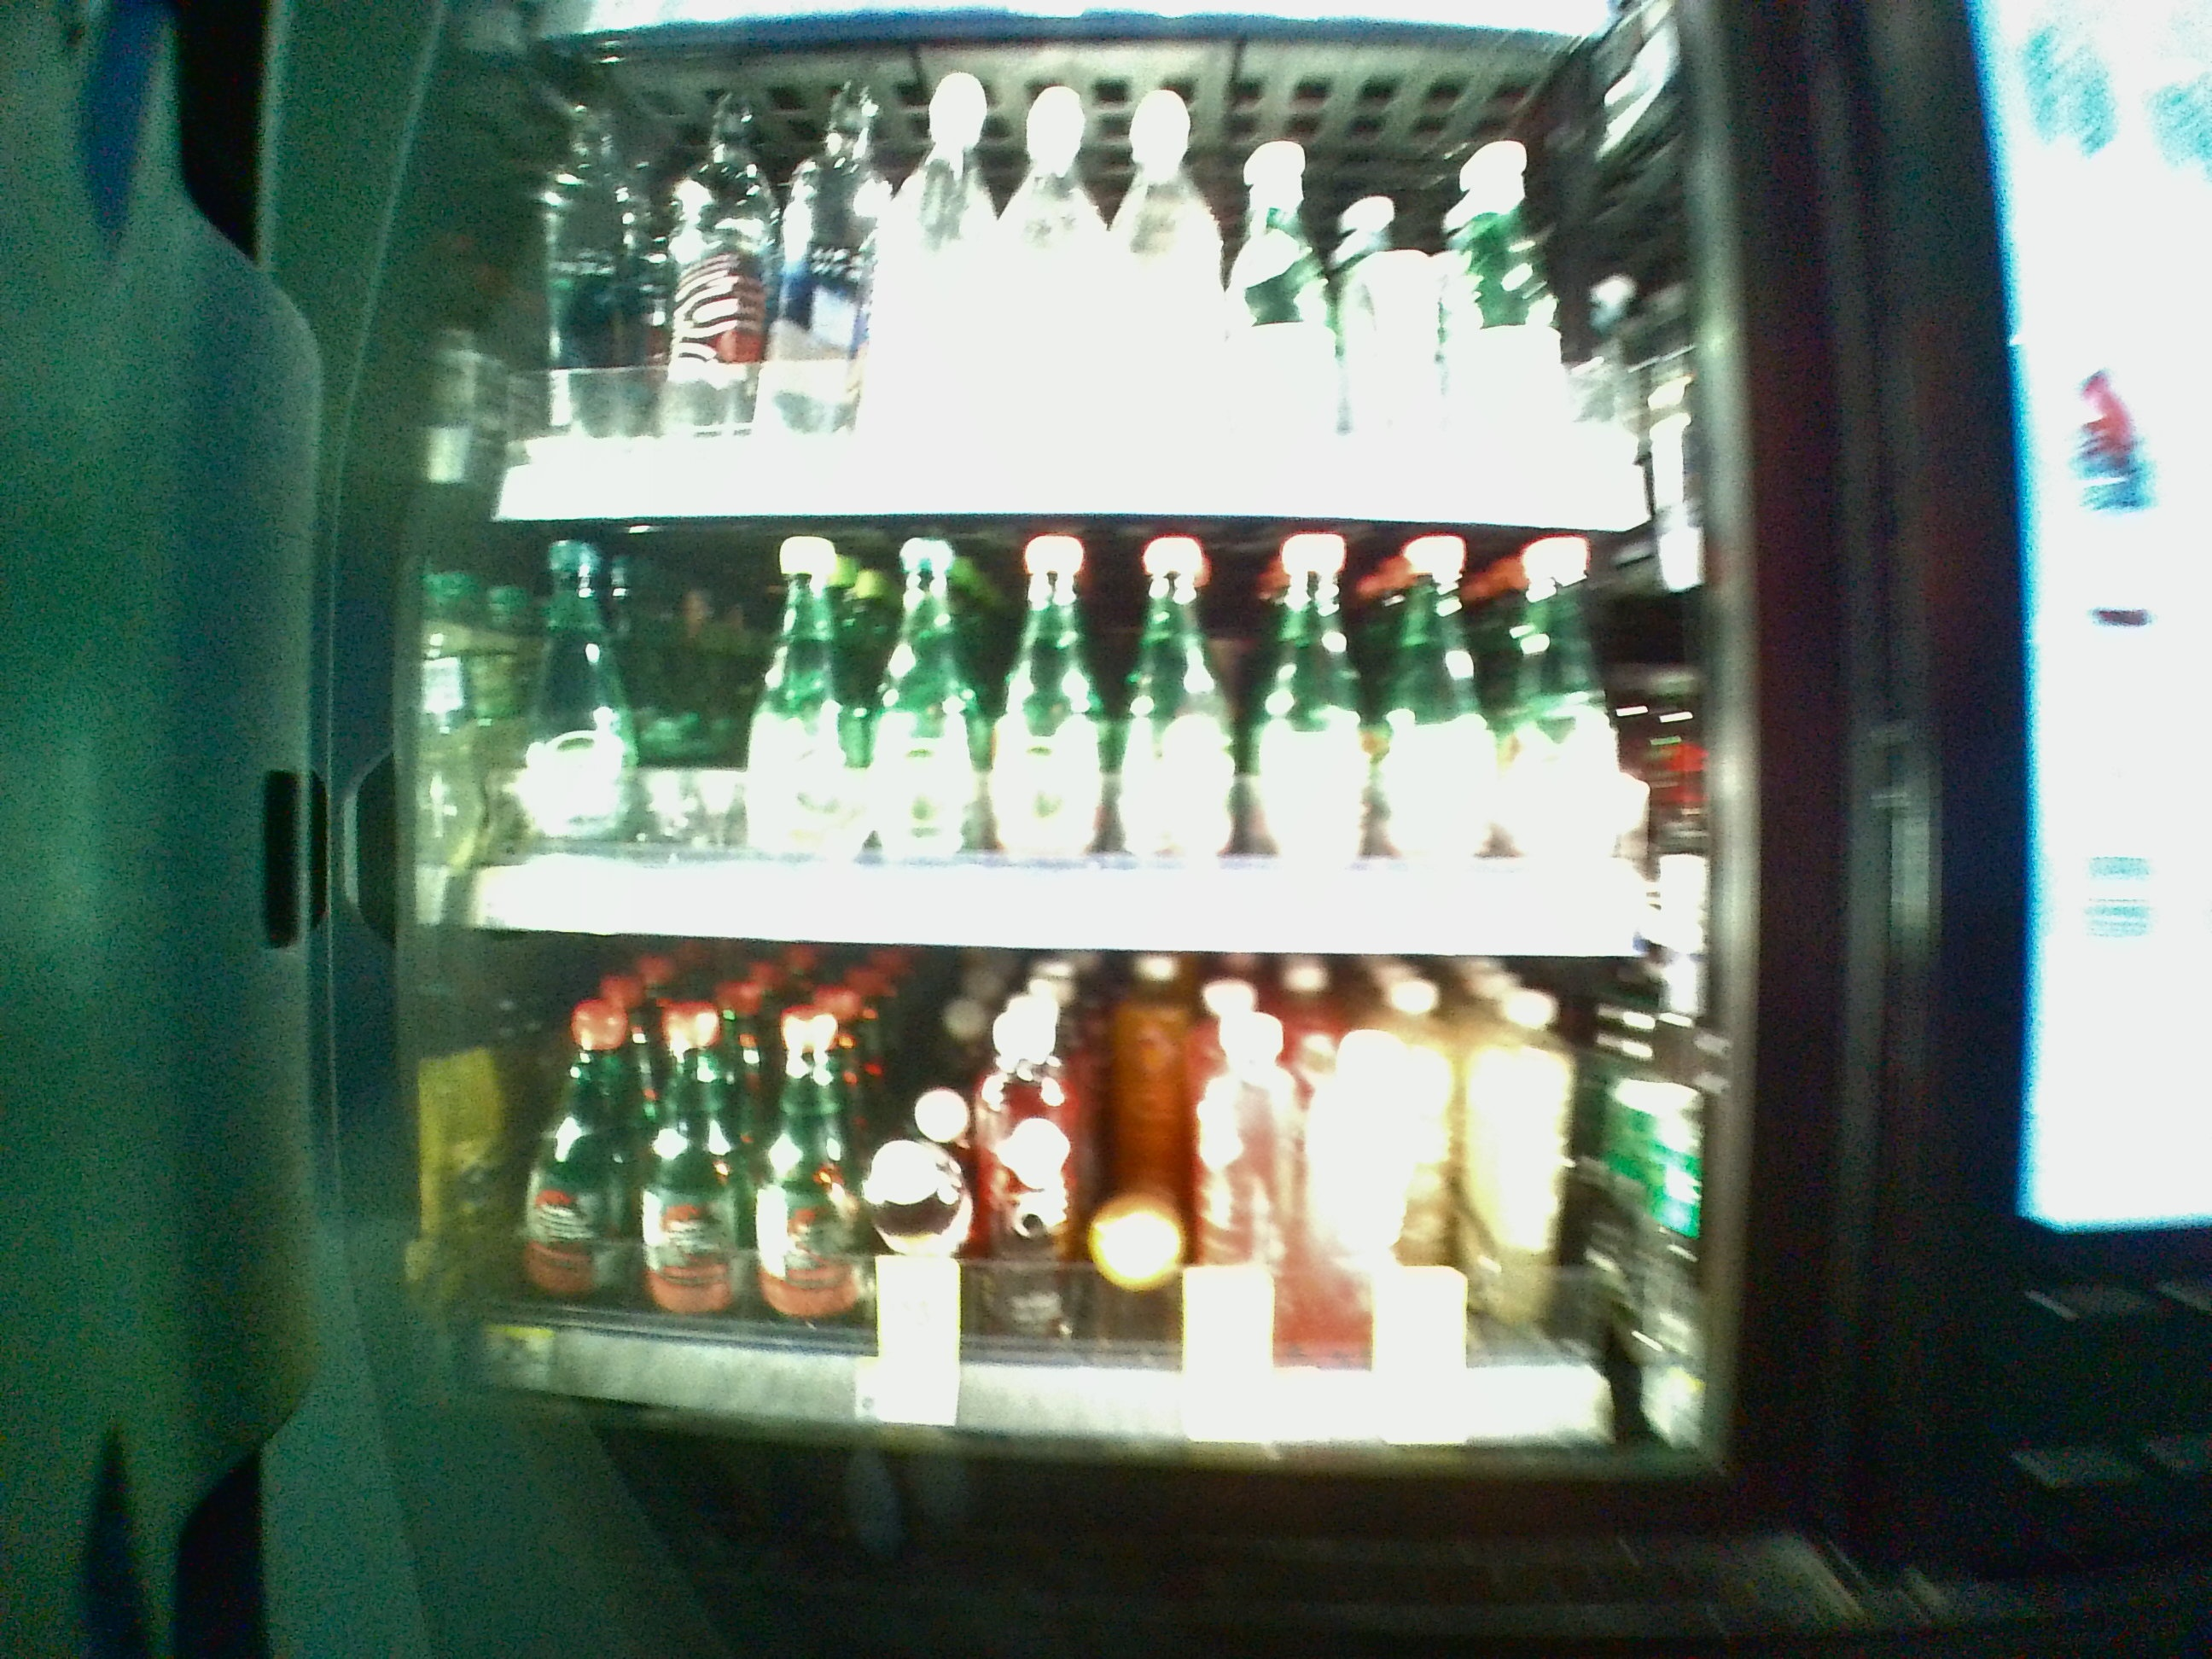Shelf: (449, 967, 1700, 1462), (455, 518, 1695, 967)
